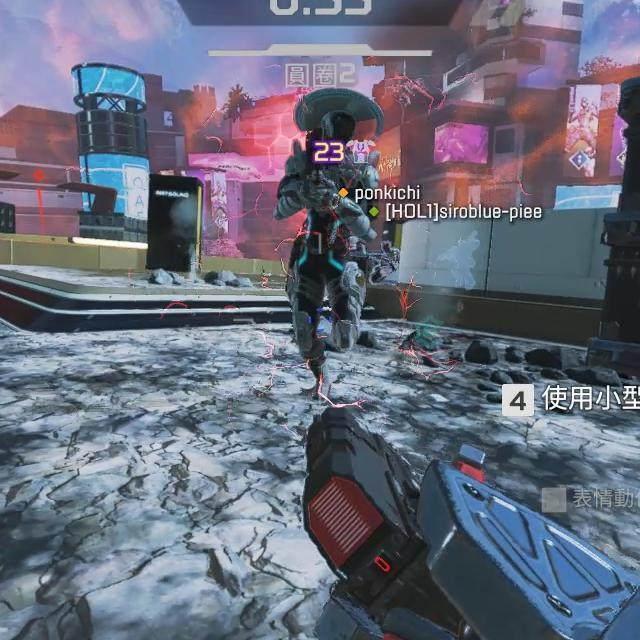avatar: (270, 85, 387, 378)
